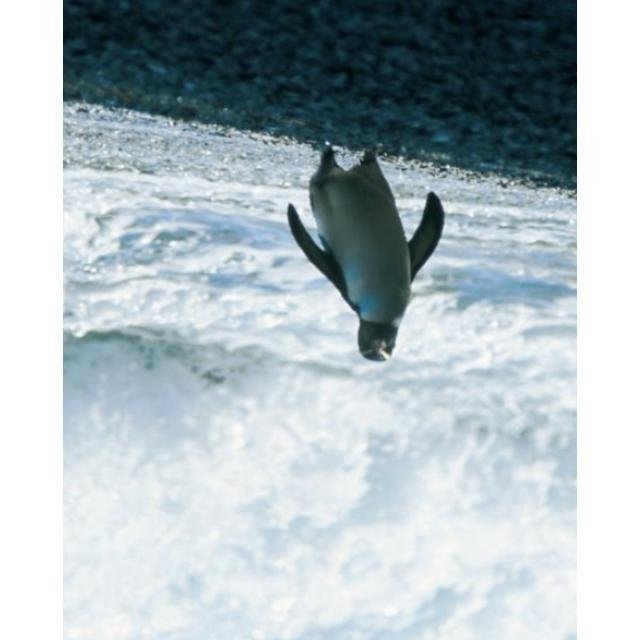penguin: (294, 165, 366, 435)
